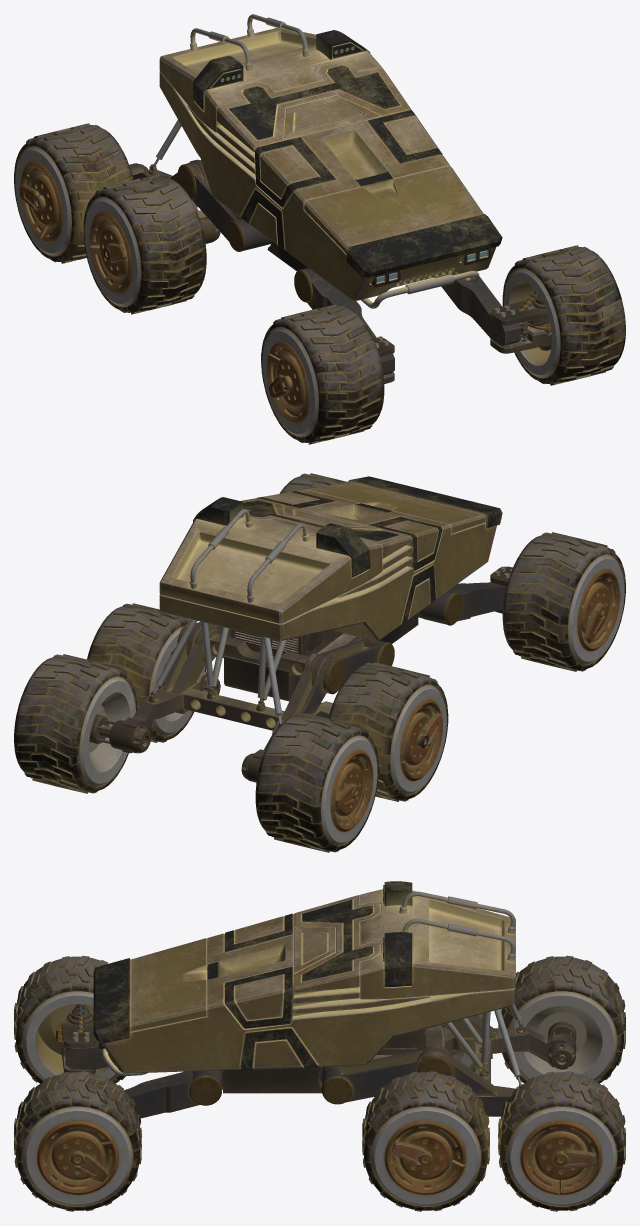
The model's file is pressurised-rover.glb.
The picture shows the model from 3 angles, top to bottom: view 1: azimuth 30°, elevation 25°; view 2: azimuth 150°, elevation 25°; view 3: azimuth 270°, elevation 25°; orthographic projection. The views are drawn at different scales.
Visible parts, largest first — view 1: door_low_body.001_0, disk_low_wheel.001_0, absorber_low_rack.001_0, rale1_low_rale.001_0; view 2: disk_low_wheel.001_0, door_low_body.001_0, absorber_low_rack.001_0, rale1_low_rale.001_0; view 3: disk_low_wheel.001_0, door_low_body.001_0, absorber_low_rack.001_0, rale1_low_rale.001_0.
Part boxes in pixels (x1=…): door_low_body.001_0: x1=159, y1=14, x2=502, y2=308; disk_low_wheel.001_0: x1=14, y1=123, x2=625, y2=444; absorber_low_rack.001_0: x1=129, y1=120, x2=520, y2=374; rale1_low_rale.001_0: x1=138, y1=164, x2=551, y2=383; disk_low_wheel.001_0: x1=14, y1=473, x2=625, y2=852; door_low_body.001_0: x1=159, y1=476, x2=502, y2=641; absorber_low_rack.001_0: x1=122, y1=566, x2=512, y2=758; rale1_low_rale.001_0: x1=89, y1=566, x2=512, y2=782; disk_low_wheel.001_0: x1=14, y1=955, x2=625, y2=1211; door_low_body.001_0: x1=93, y1=881, x2=515, y2=1076; absorber_low_rack.001_0: x1=65, y1=1004, x2=566, y2=1118; rale1_low_rale.001_0: x1=56, y1=1004, x2=576, y2=1093.
Size of the model in its own units: 6.55 by 4.71 by 11.06.
4 materials, 4 textured.
